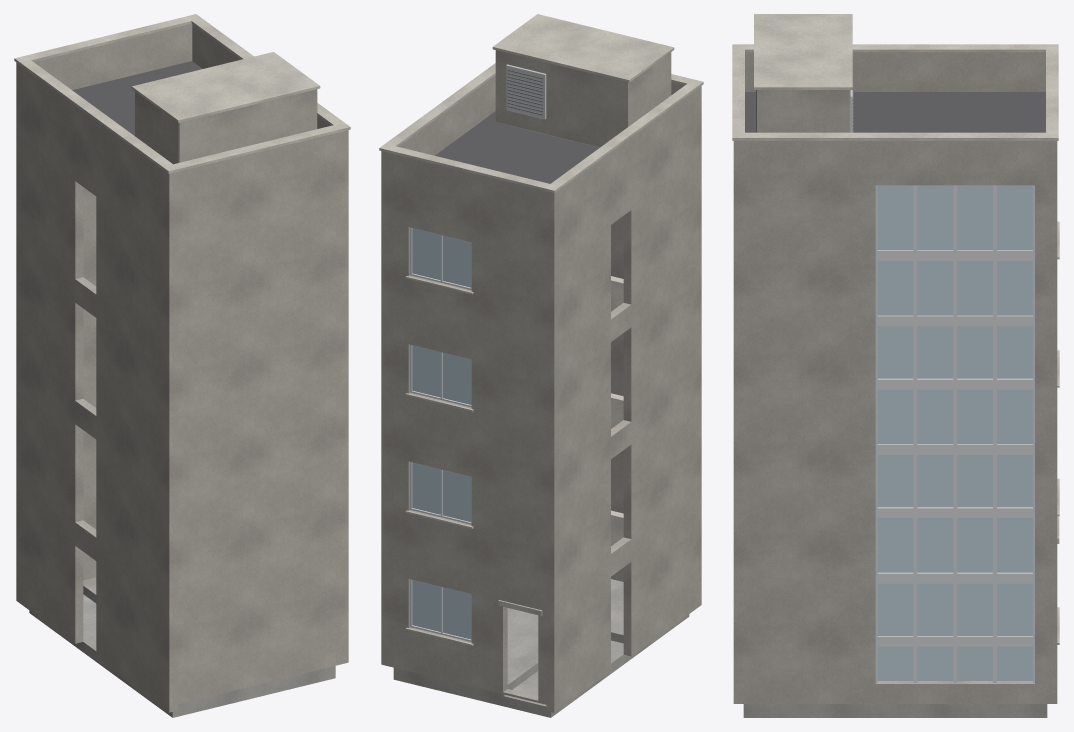
The model's file is tower.glb.
3 views of the same model, side by side, from view 1: azimuth 30°, elevation 25°; view 2: azimuth 150°, elevation 25°; view 3: azimuth 270°, elevation 25° (orthographic). The views are drawn at different scales.
Visible parts, largest first — view 1: tower_concrete, tower_coping, tower_conc_s, tower_dark; view 2: tower_concrete, tower_coping, tower_glass, tower_conc_s, tower_dark, tower_alu, tower_metal, tower_plaster, tower_steel_d; view 3: tower_concrete, tower_glass, tower_alu, tower_coping, tower_dark, tower_conc_s.
Boxes of the visible parts, <box> form: tower_concrete: <box>16,23,348,712</box>; tower_coping: <box>14,14,350,173</box>; tower_conc_s: <box>29,577,335,717</box>; tower_dark: <box>72,61,202,135</box>; tower_concrete: <box>381,50,701,712</box>; tower_coping: <box>379,14,703,646</box>; tower_glass: <box>412,228,471,639</box>; tower_conc_s: <box>393,579,689,717</box>; tower_dark: <box>435,111,599,183</box>; tower_alu: <box>410,227,471,641</box>; tower_metal: <box>506,64,546,119</box>; tower_plaster: <box>611,276,623,545</box>; tower_steel_d: <box>507,69,543,115</box>; tower_concrete: <box>733,52,1057,703</box>; tower_glass: <box>877,185,1032,680</box>; tower_alu: <box>875,185,1034,682</box>; tower_coping: <box>732,14,1059,644</box>; tower_dark: <box>745,92,1045,132</box>; tower_conc_s: <box>743,704,1047,717</box>.
Size of the model in its own units: 4.46 by 13.86 by 6.58.
9 materials, 4 textured.
